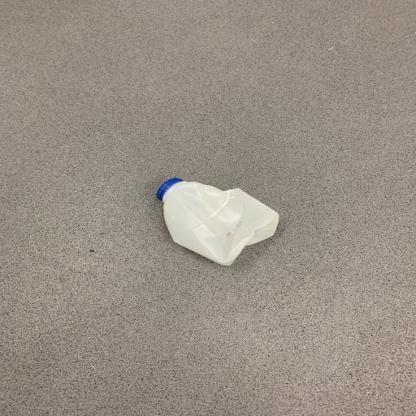trash: (154, 177, 283, 266)
